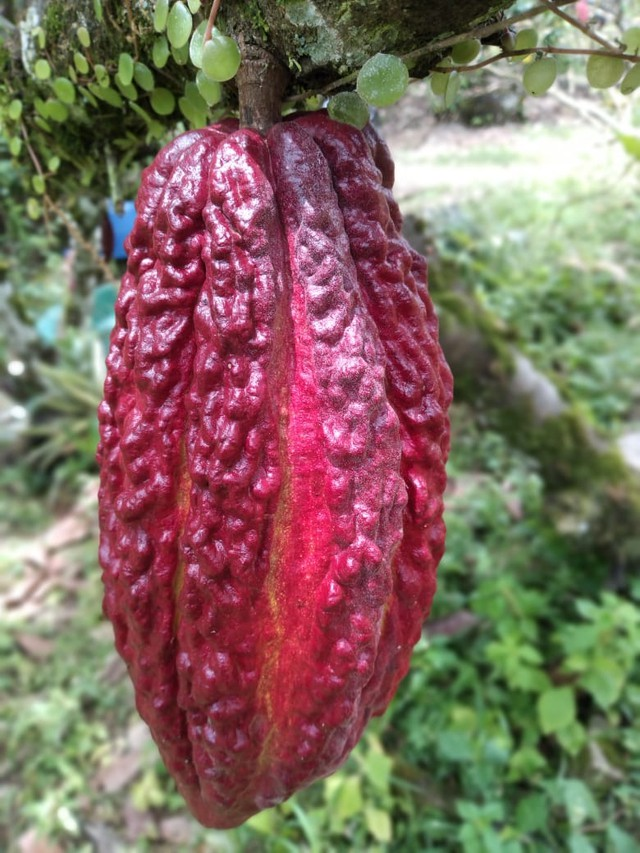Health: (94, 101, 457, 830)
